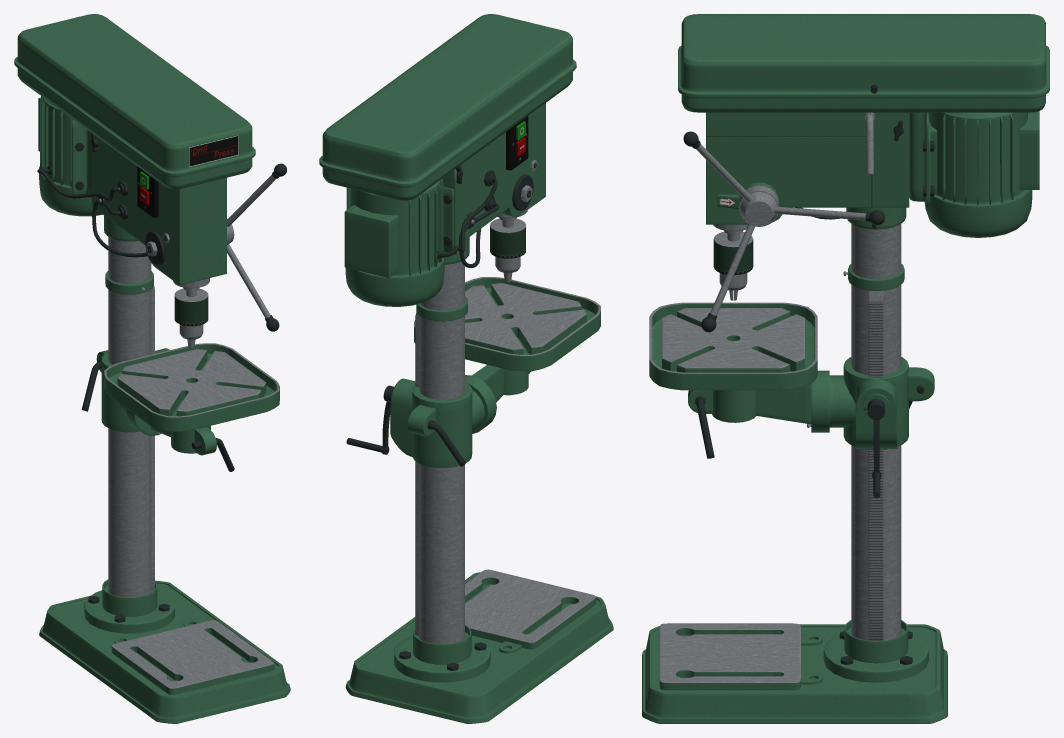
Rendered from asset.glb.
3 views of the same model, side by side, from view 1: azimuth 30°, elevation 25°; view 2: azimuth 150°, elevation 25°; view 3: azimuth 270°, elevation 25° (orthographic). The views are drawn at different scales.
Visible parts, largest first — view 1: 13604_Drill_Press_v1_L2.001; view 2: 13604_Drill_Press_v1_L2.001; view 3: 13604_Drill_Press_v1_L2.001.
Boxes of the visible parts, x1,y1,x2,y2 form: 13604_Drill_Press_v1_L2.001: [14, 14, 290, 723]; 13604_Drill_Press_v1_L2.001: [319, 14, 613, 723]; 13604_Drill_Press_v1_L2.001: [642, 14, 1049, 723].
Size of the model in its own units: 48.99 by 169 by 96.42.
1 material, 1 textured.
